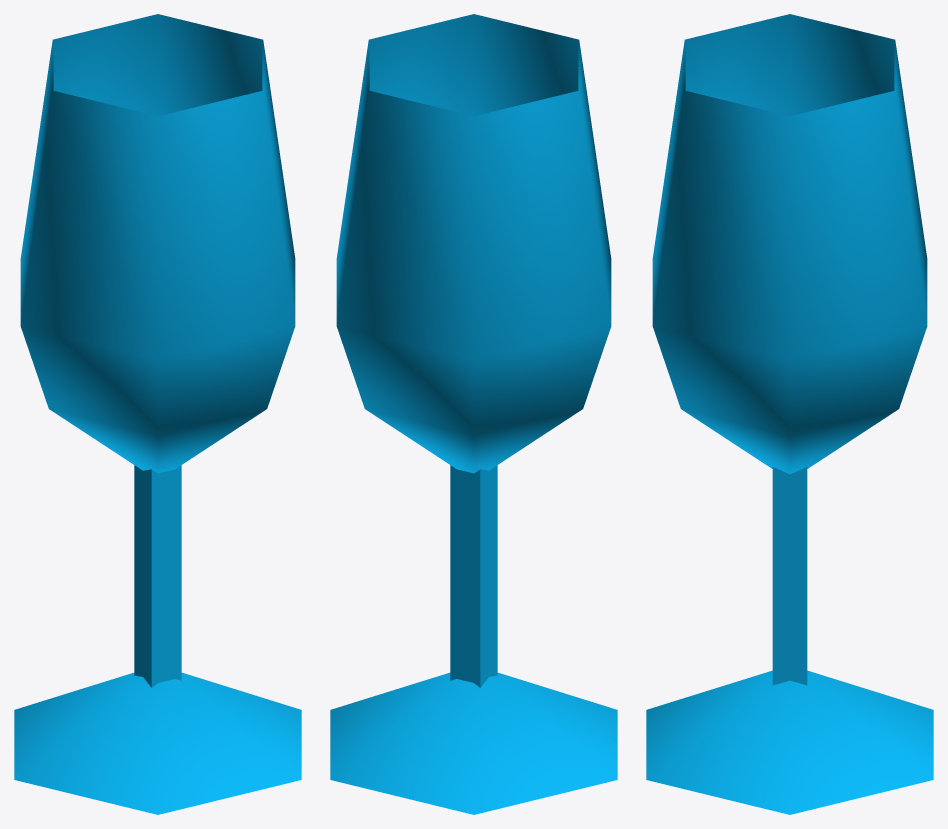
File: prop_022.glb
3 views of the same model, side by side, from view 1: azimuth 30°, elevation 25°; view 2: azimuth 150°, elevation 25°; view 3: azimuth 270°, elevation 25° (orthographic).
Visible parts, largest first — view 1: prop_022; view 2: prop_022; view 3: prop_022.
Part boxes in pixels (x1,y1,x2,y2): prop_022: [14, 14, 301, 814]; prop_022: [330, 14, 617, 814]; prop_022: [646, 14, 933, 814].
Bounding box in the file's own units: 0.0614 × 0.1388 × 0.0532.
1 material, 1 textured.
